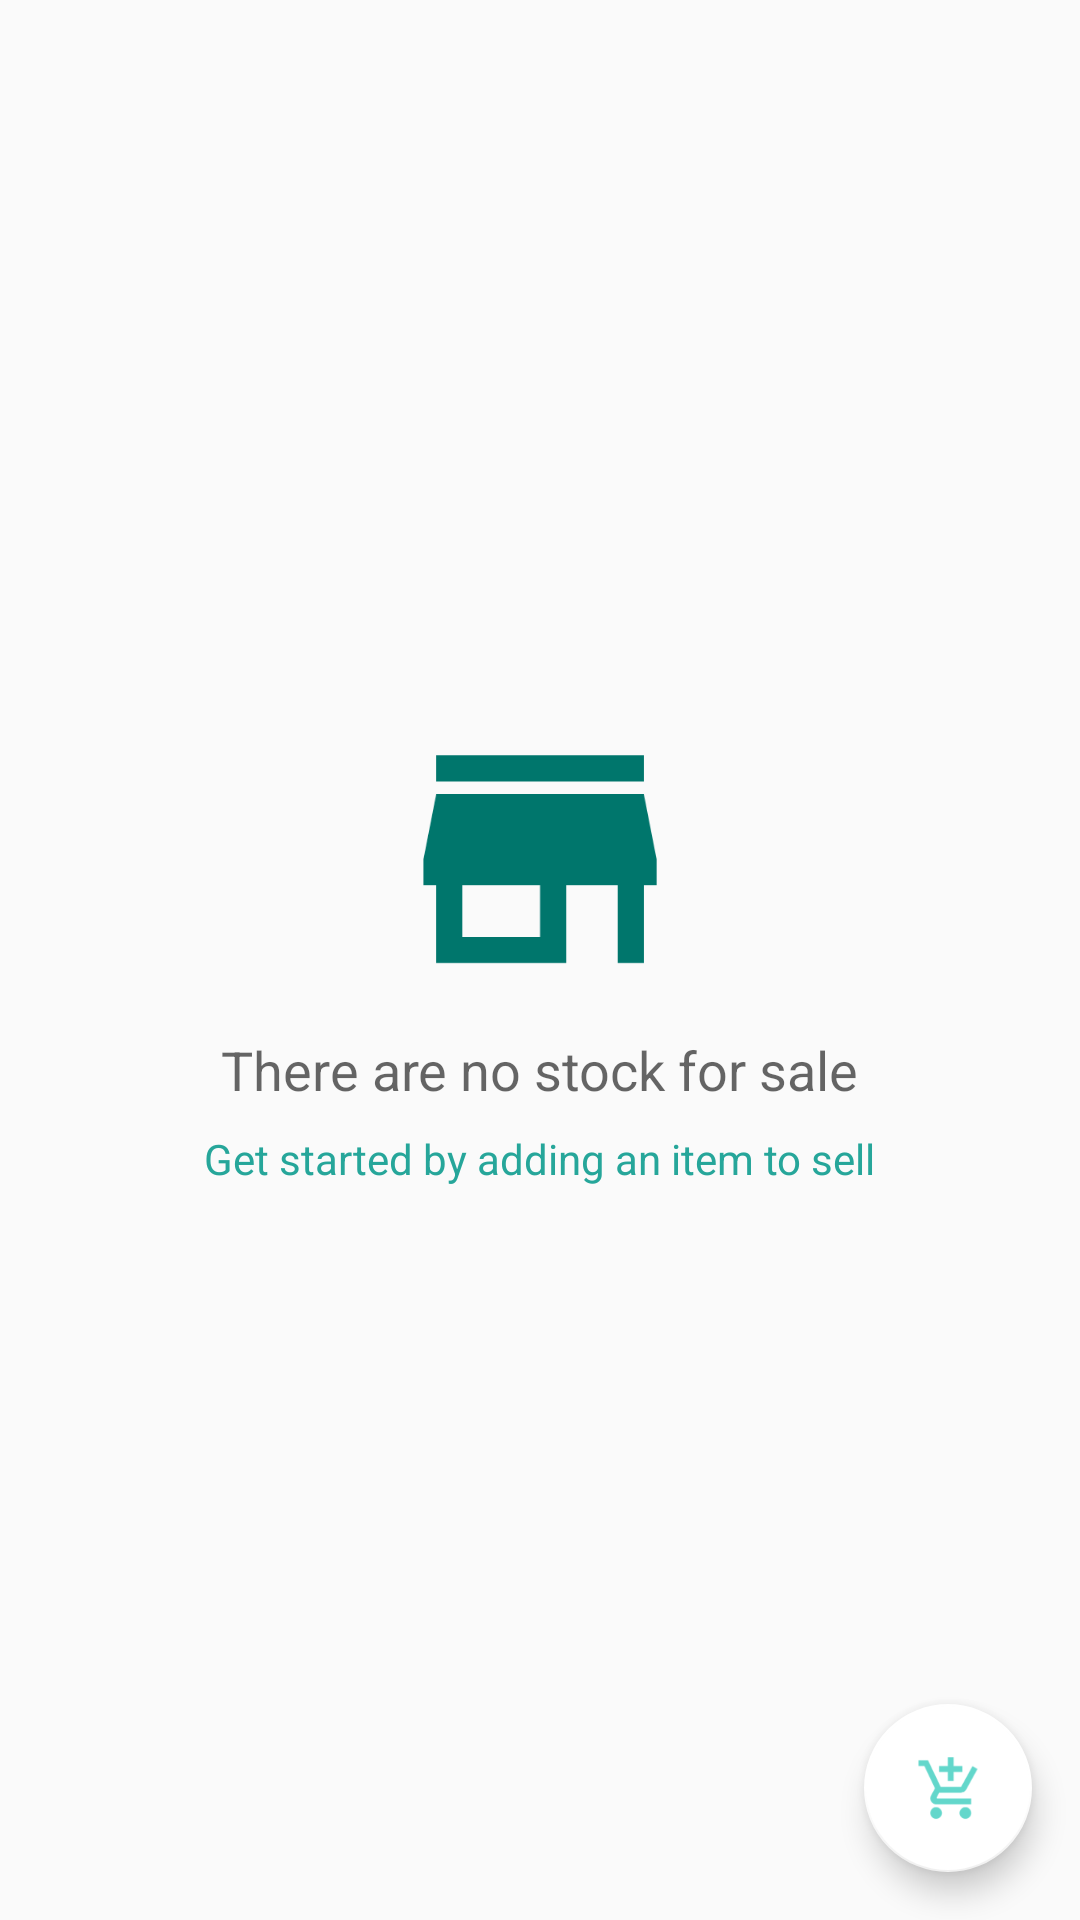

Screen size 1080 × 1920. Icon name, then its center in pixels as [x,y]:
empty view store: [540,859]
fab: [951,1814]
